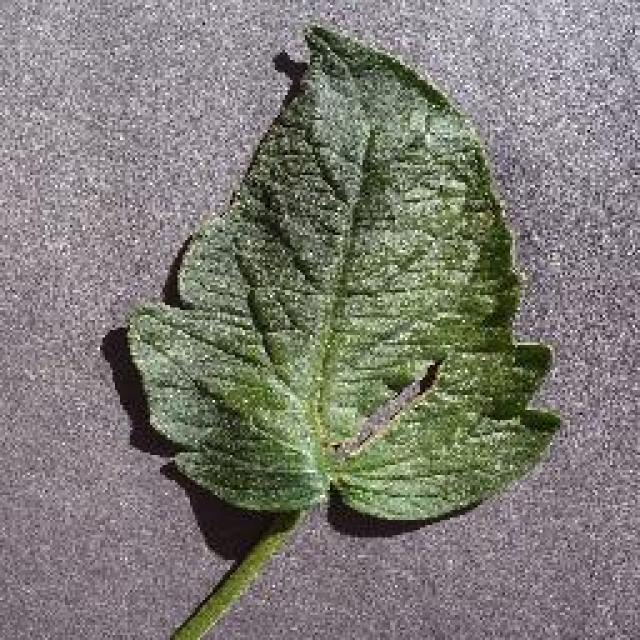Tomato_Healthy: (82, 23, 596, 536)
